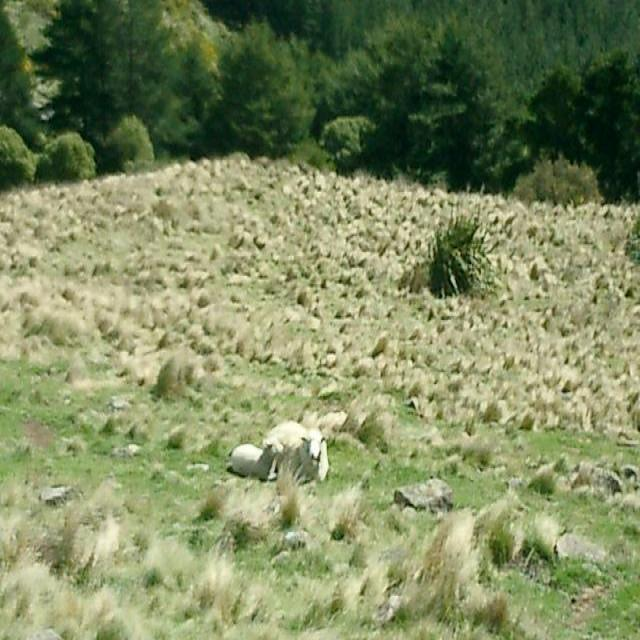Sheep: (261, 421, 329, 484)
